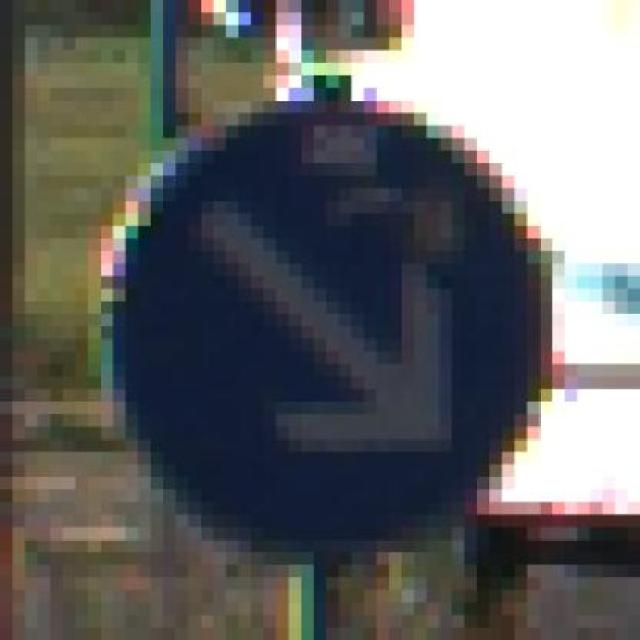Keep-Right: (50, 88, 590, 540)
